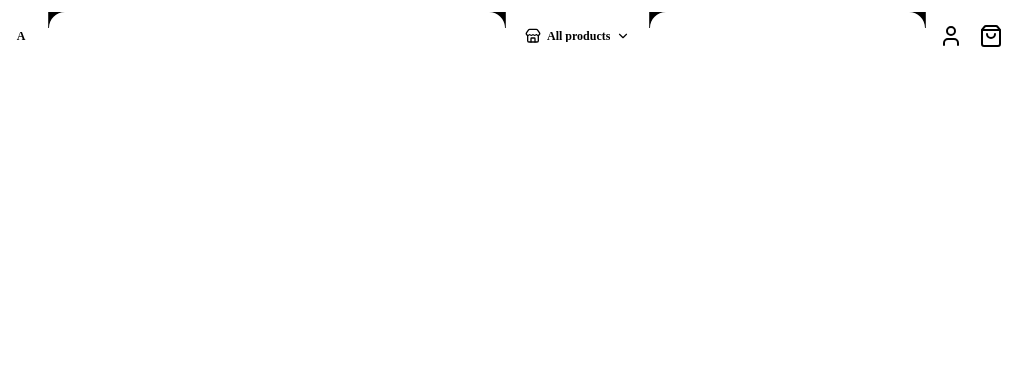
Test case: the header account control › opens the account menu when the circle is clicked
Step 1. Click the button named "Hi Sara Nour" → coordinates (951, 36), box [933, 18, 969, 54]
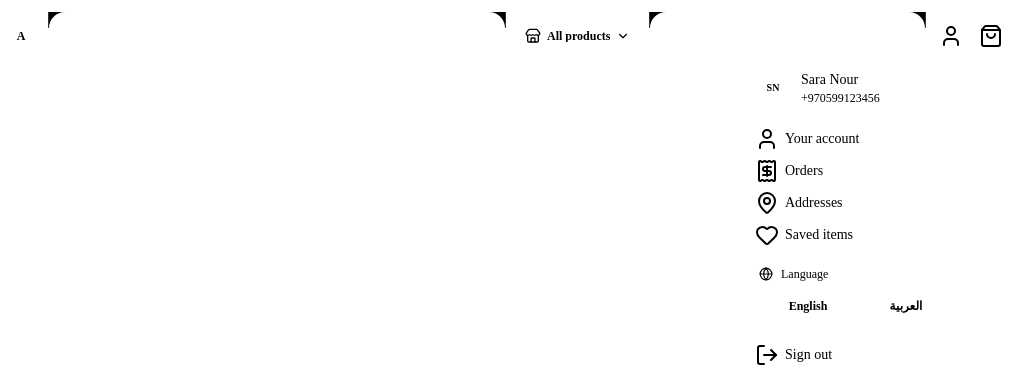
Expected: the menu item "Orders" is shown, [755, 159, 823, 183]
Expected: the text "+970599123456" is shown, [801, 90, 880, 106]
Expected: the menu item "Addresses" is shown, [755, 191, 842, 215]
